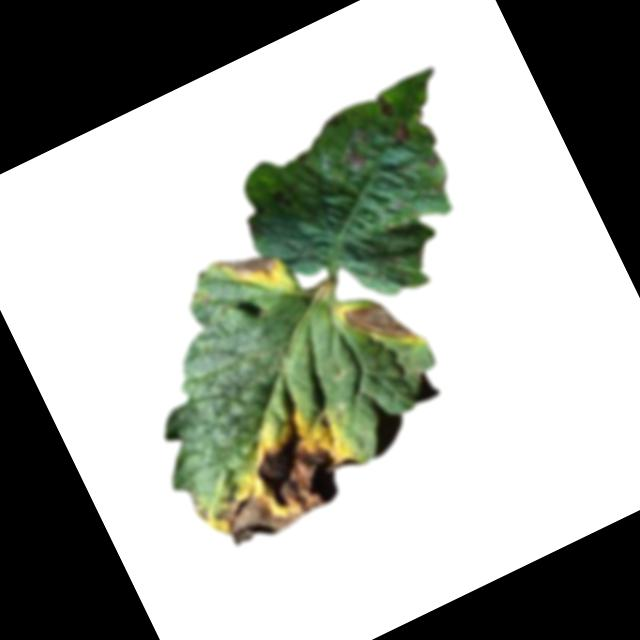Early_blight: (185, 393, 375, 558), (333, 283, 422, 366), (211, 234, 287, 297), (337, 141, 373, 176), (382, 111, 415, 145), (372, 90, 397, 119), (418, 149, 444, 172)
